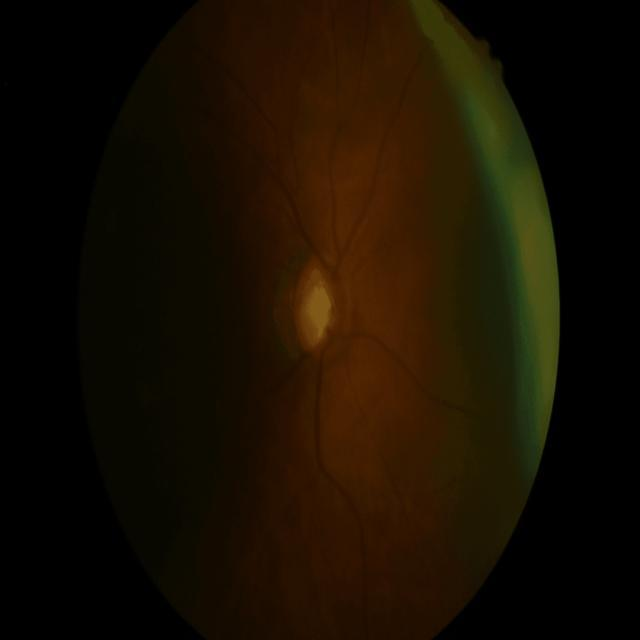cup: (299, 268, 334, 348)
disk: (290, 252, 354, 364)
